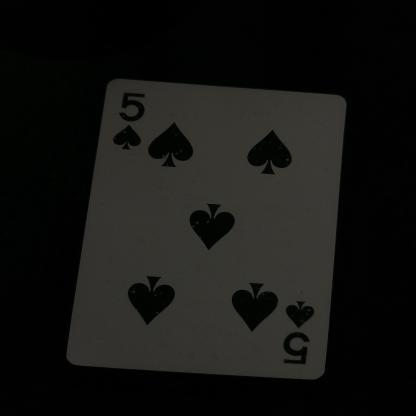5S: (100, 85, 162, 159), (274, 288, 324, 372)
